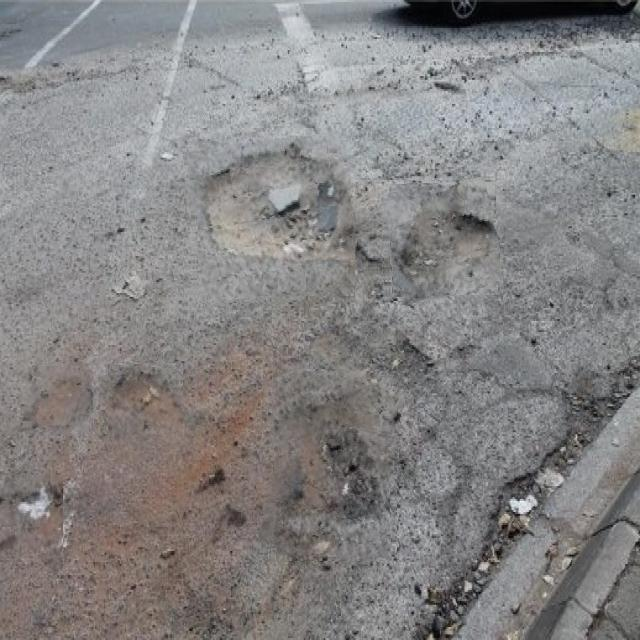Pothole: (191, 136, 355, 303), (266, 374, 398, 562), (384, 180, 500, 301), (103, 361, 188, 460), (0, 475, 63, 556), (24, 366, 94, 433)
